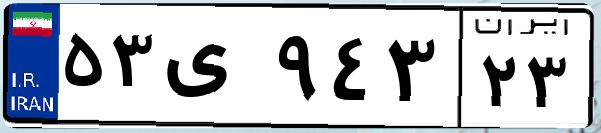2: (475, 38, 525, 113)
3: (385, 28, 445, 110), (525, 38, 570, 115), (110, 28, 158, 98)
4: (330, 28, 385, 110)
5: (57, 26, 110, 100)
9: (270, 28, 330, 110)
ی: (158, 20, 270, 120)
